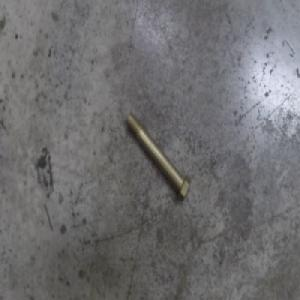Bolt: (125, 111, 191, 202)
